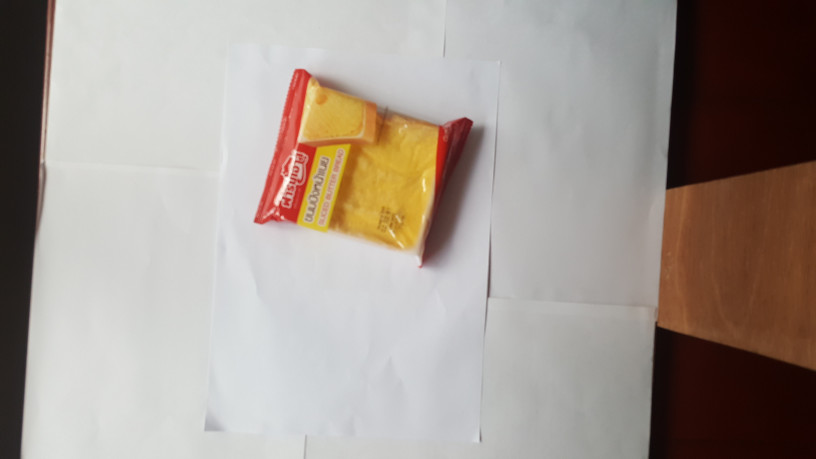farmhouse-bread-butter: (241, 63, 483, 281)
